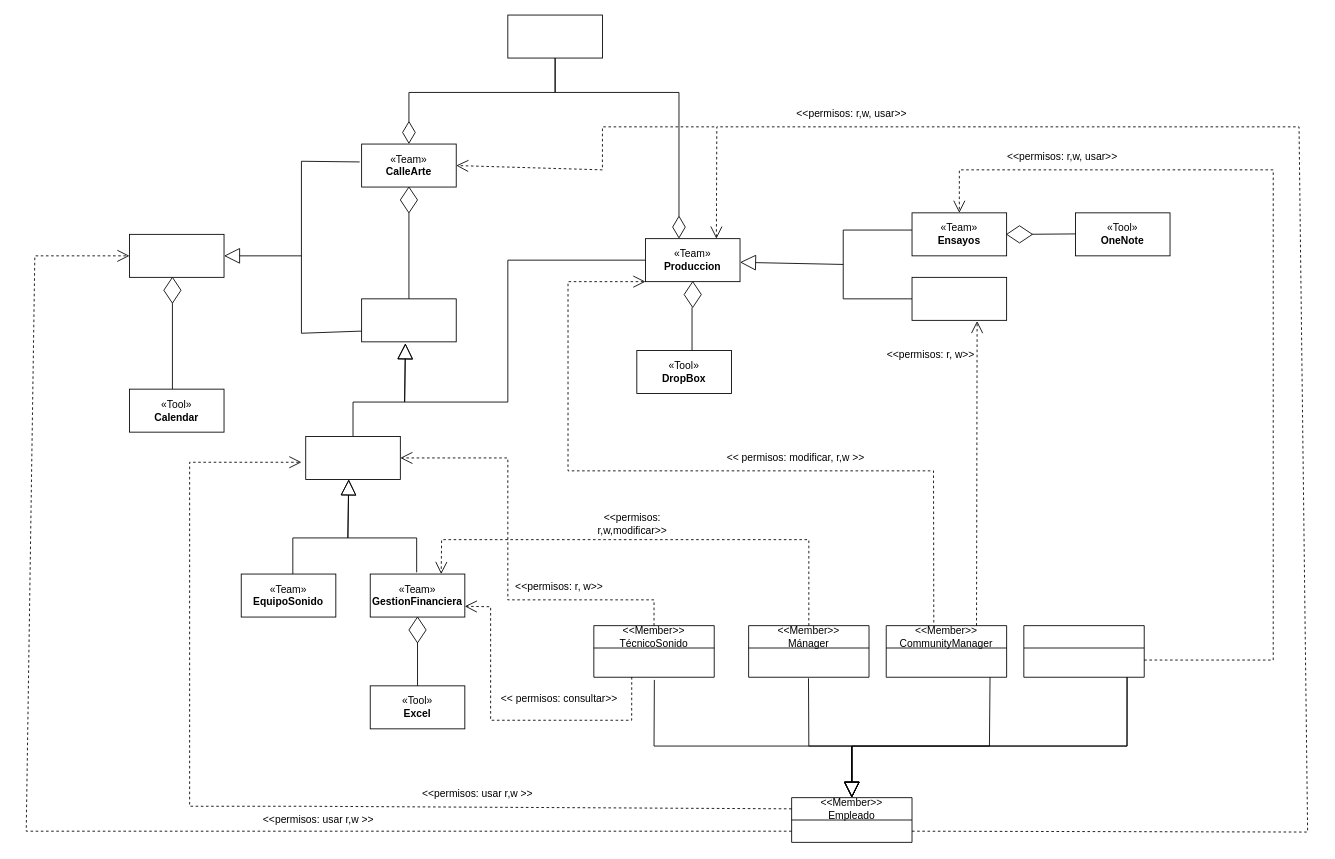
Image size: 1335x859. Some labels were removed from this diagram. The shapes that lost their labels are listed below. From the top down, each one's centre as x and y in pixels, then its label:
At point (554, 36): "«Tool» Planner".
At point (176, 255): "«Team» Genérico".
At point (959, 298): "«Team» Edicion".
At point (408, 320): "«Team» SubGrupo".
At point (352, 457): "«Team» AreaTecnica".
At point (1083, 651): "<<Member>> Músico".
